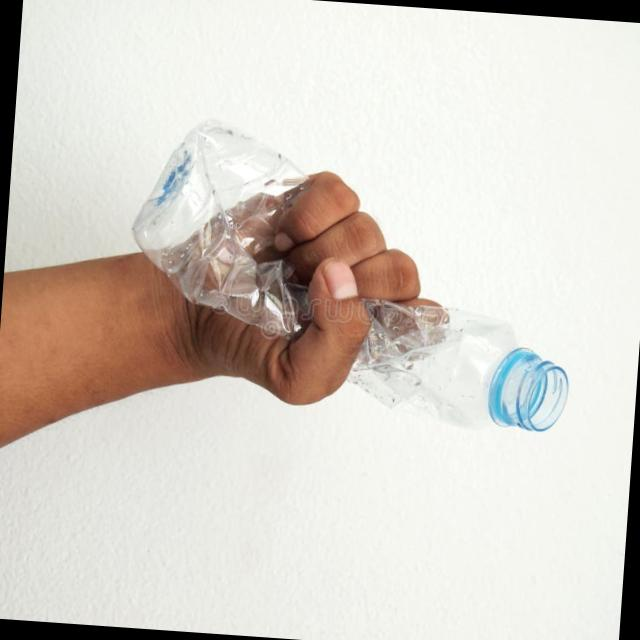plastic_bottle: (90, 83, 597, 462)
